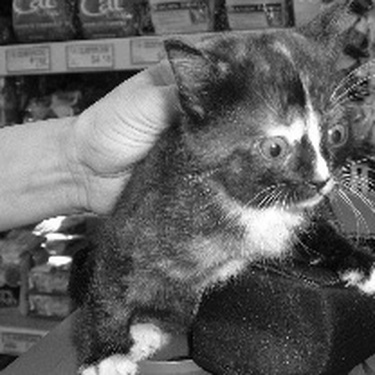cat: (56, 11, 366, 350)
